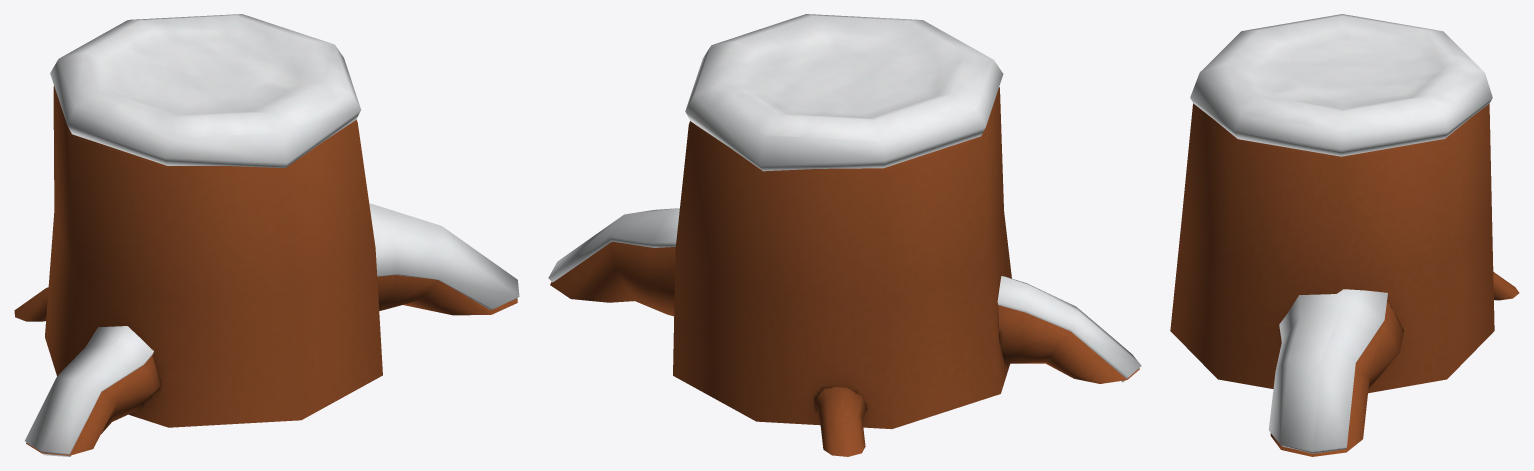
Rendered from TreeTrunk.fbx.
3 views of the same model, side by side, from view 1: azimuth 30°, elevation 25°; view 2: azimuth 150°, elevation 25°; view 3: azimuth 270°, elevation 25° (orthographic). The views are drawn at different scales.
Parts seen in each view (by area): view 1: TreeTrunk; view 2: TreeTrunk; view 3: TreeTrunk.
Boxes of the visible parts, box(x1,y1,x2,y2) form: TreeTrunk: box(14, 14, 519, 456); TreeTrunk: box(548, 14, 1141, 456); TreeTrunk: box(1170, 14, 1519, 456).
Size of the model in its own units: 149 by 78.01 by 92.24.
